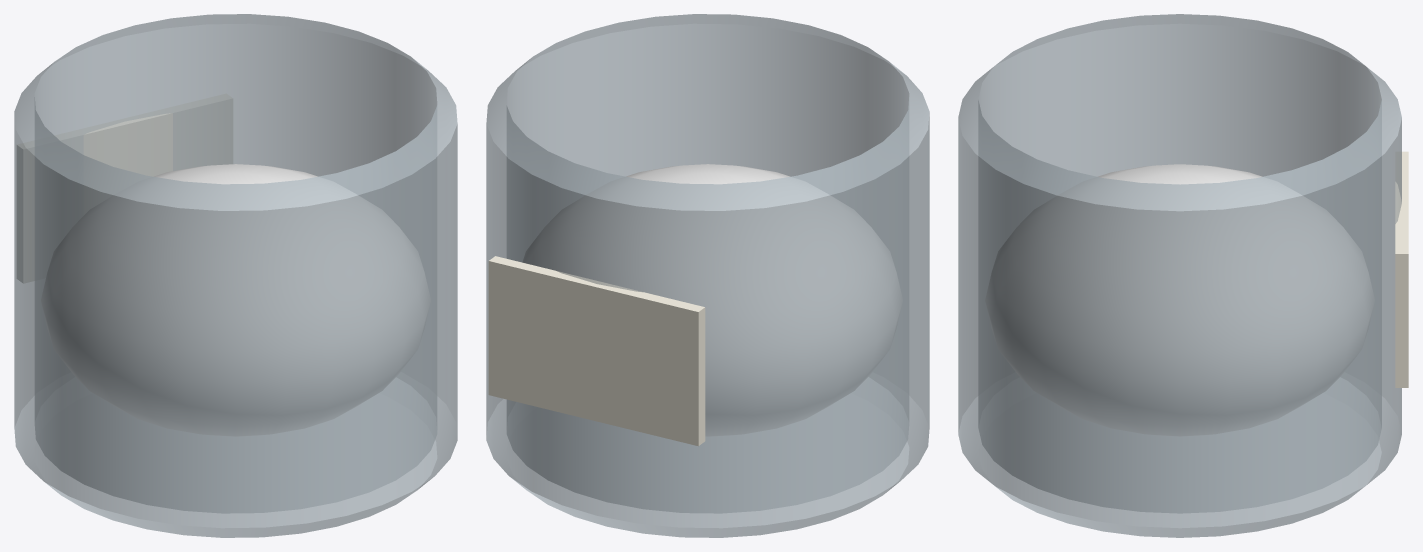
Rendered from salt_jar.glb.
The picture shows the model from 3 angles, left to right: view 1: azimuth 30°, elevation 25°; view 2: azimuth 150°, elevation 25°; view 3: azimuth 270°, elevation 25°; orthographic projection.
Visible parts, largest first — view 1: salt_jar; view 2: salt_jar; view 3: salt_jar.
Boxes of the visible parts, <box> form: salt_jar: <box>14,14,457,537</box>; salt_jar: <box>486,14,929,537</box>; salt_jar: <box>958,14,1408,537</box>.
Size of the model in its own units: 0.66 by 0.58 by 0.67.
